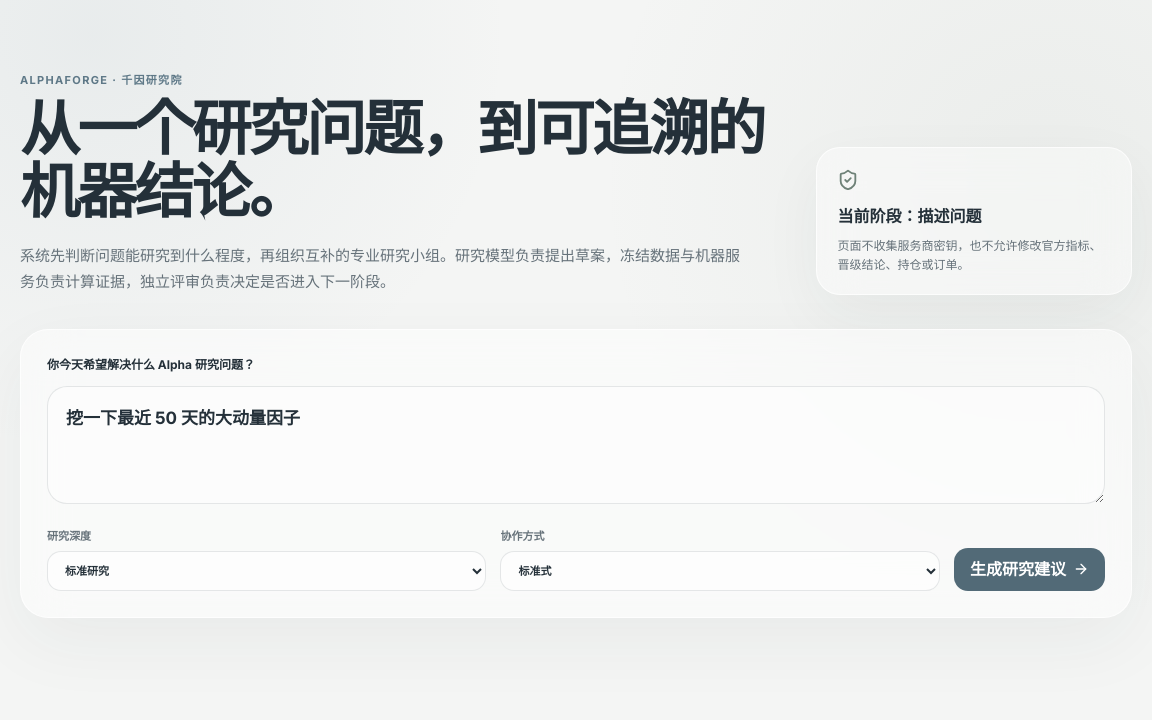
Test: AlphaForge 中文研究闭环页面 › 数据不足时仍返回辅助研究路线而不是伪造机器评价
The image size is (1152, 720).
Step 1. Replace the text in the text box labelled "Alpha 研究问题" with "北向资金是否增强 50 日动量？" → (576, 445), box [47, 386, 1105, 504]
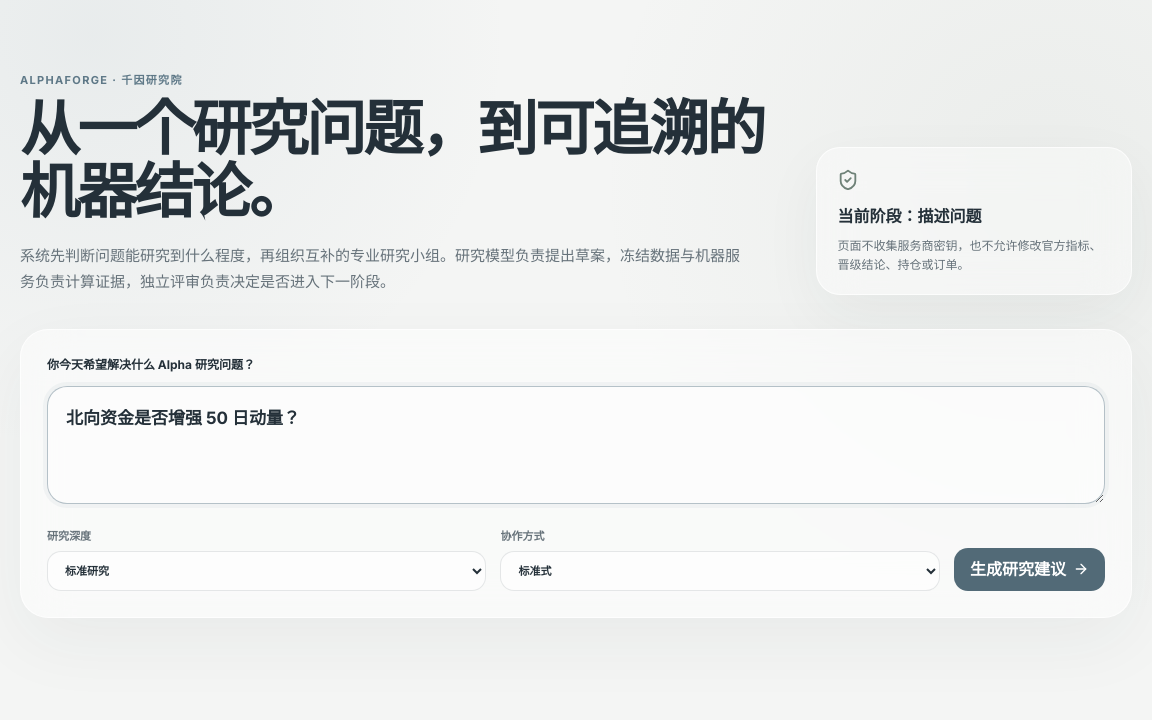
Step 2. Click the button "生成研究建议" → click(1030, 569), box [954, 548, 1105, 591]
(page scrolled)
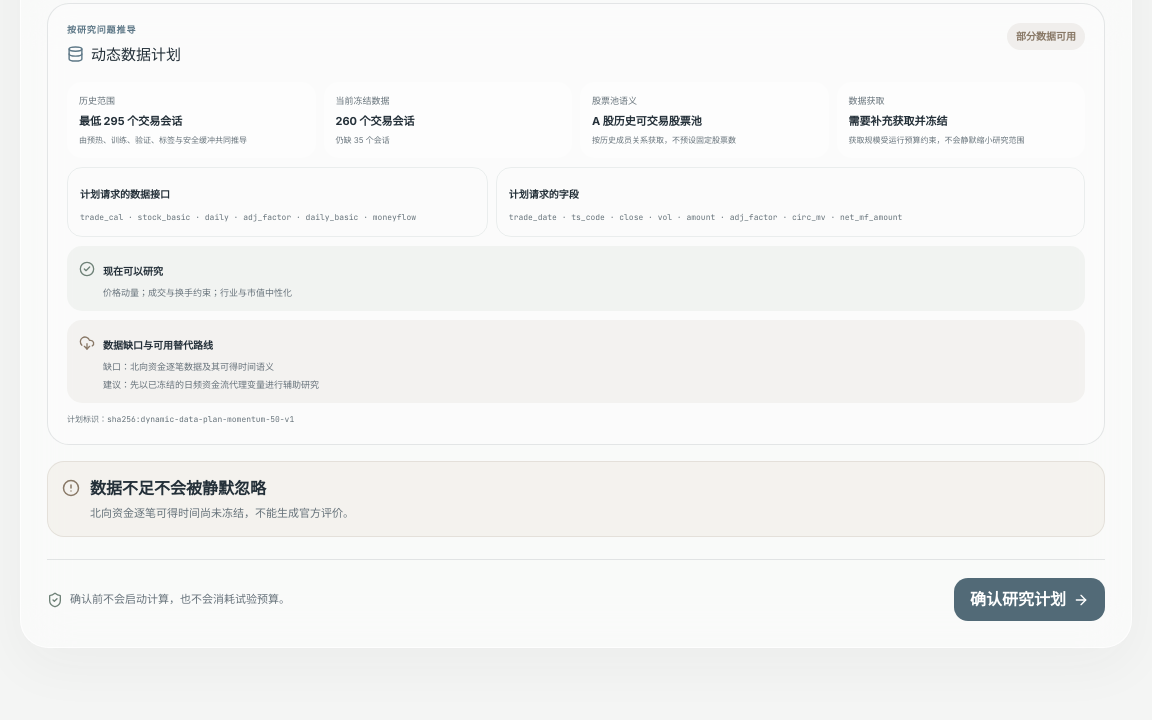
Expected: the text "数据不足不会被静默忽略" is shown, [90, 478, 266, 498]
Expected: the text "北向资金逐笔可得时间尚未冻结" is shown, [90, 506, 354, 520]
Expected: the text "需要补充获取并冻结" is shown, [848, 114, 948, 128]
